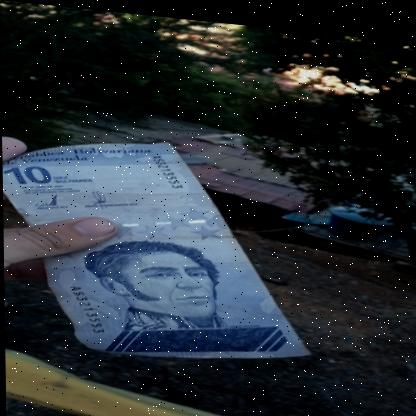ten-front-vef: (1, 125, 311, 369)
